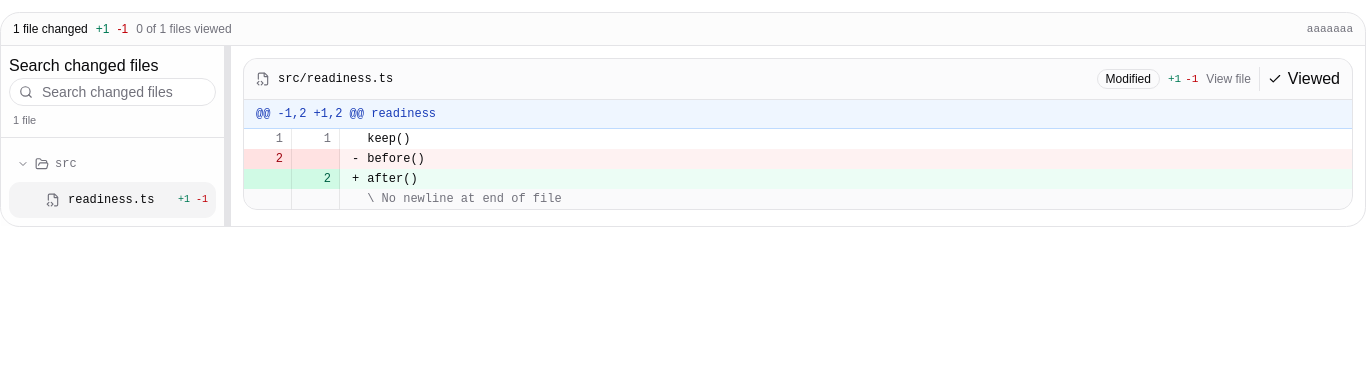
Test: PullDiff › starts a review fix for the exact selected RIGHT range without posting to GitHub
Step 1. Click the button named "Give Claude feedback on new line 1" → (316,139), box [292, 129, 340, 149]
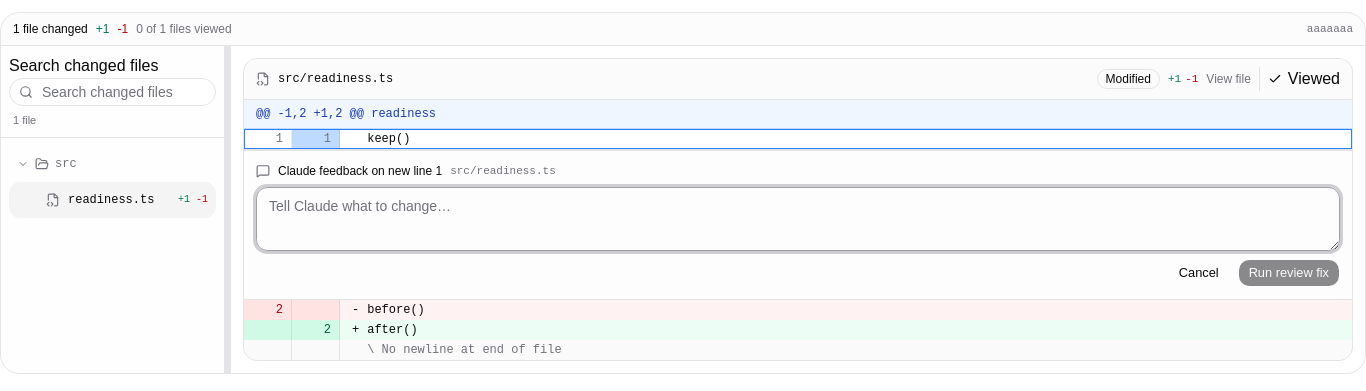
Step 2. Click the button named "Give Claude feedback on new line 2" → (316,330), box [292, 320, 340, 340]
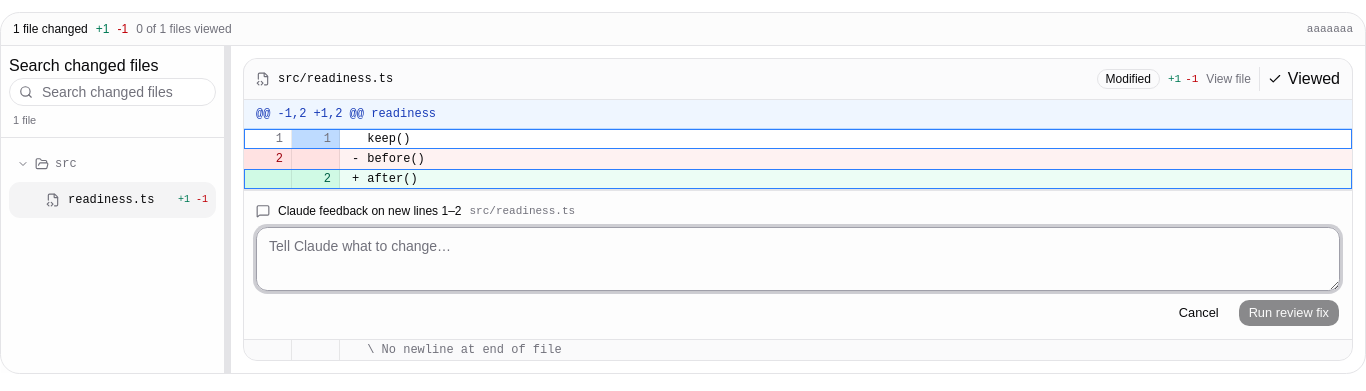
Check: the text box labelled "Claude feedback on new lines 1–2" is shown
Step 3. Type "Please cover the transition." into the text box → (798,259), box [256, 227, 1340, 291]
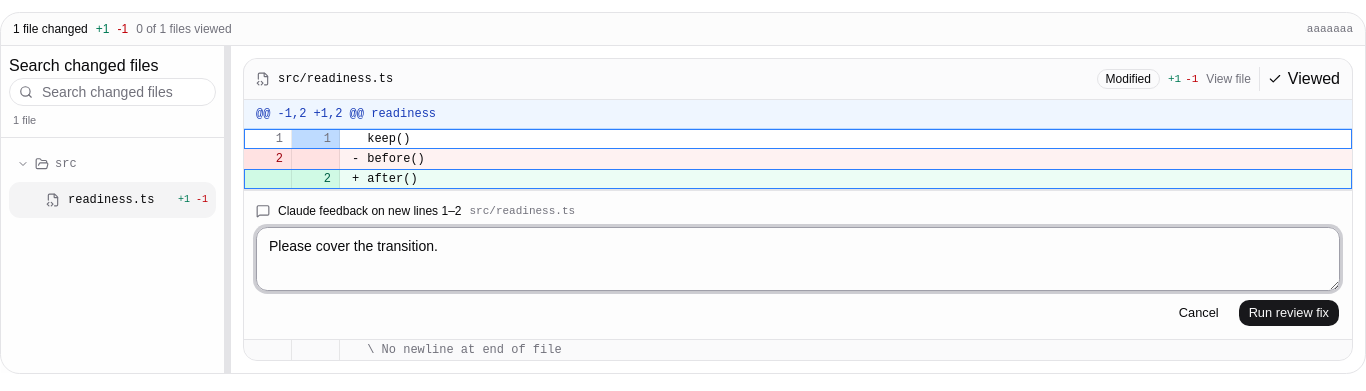
Step 4. Click the button "Run review fix" → (1289,313), box [1238, 299, 1340, 327]
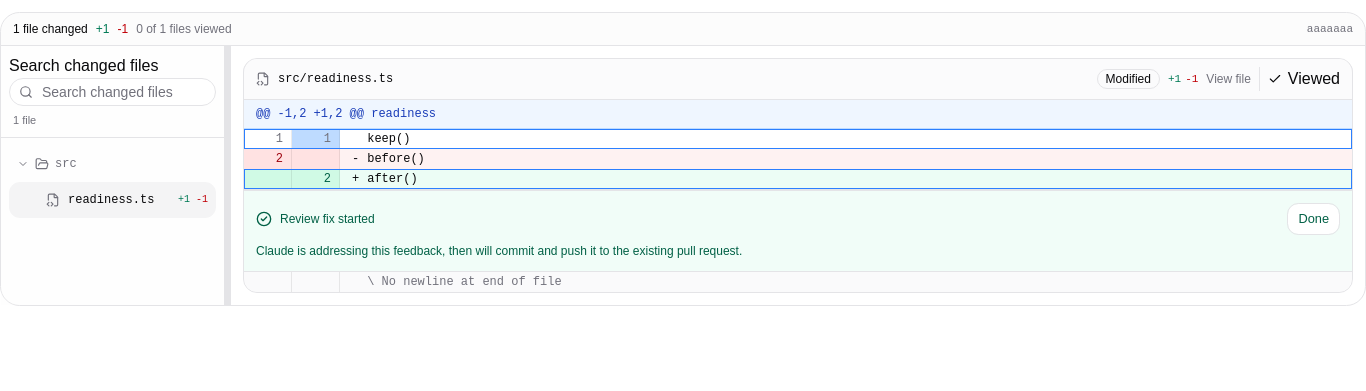
Check: the text "Review fix started" is shown, box [280, 211, 375, 227]
Check: the text "commit and push it to the existing" is shown, box [256, 244, 742, 258]
